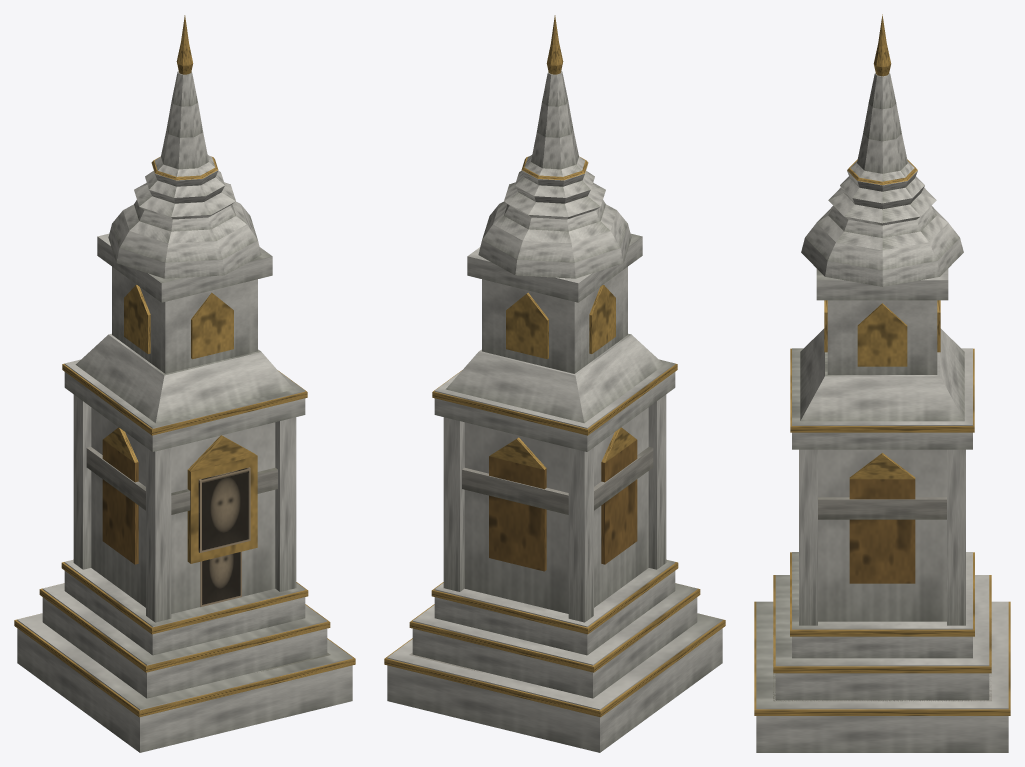
Rendered from BoneStupa.fbx.
3 views of the same model, side by side, from view 1: azimuth 30°, elevation 25°; view 2: azimuth 150°, elevation 25°; view 3: azimuth 270°, elevation 25° (orthographic). The views are drawn at different scales.
Visible parts, largest first — view 1: BoneStupa_A, BoneStupa_B; view 2: BoneStupa_A, BoneStupa_B; view 3: BoneStupa_A, BoneStupa_B.
Part boxes in pixels (x1,y1,x2,y2): BoneStupa_A: (14,15,355,752); BoneStupa_B: (86,447,330,672); BoneStupa_A: (384,15,725,752); BoneStupa_B: (409,447,653,672); BoneStupa_A: (754,14,1010,752); BoneStupa_B: (773,497,991,701).
Size of the model in its own units: 131 by 386 by 131.
Materials: 1 (1 with a texture image).
